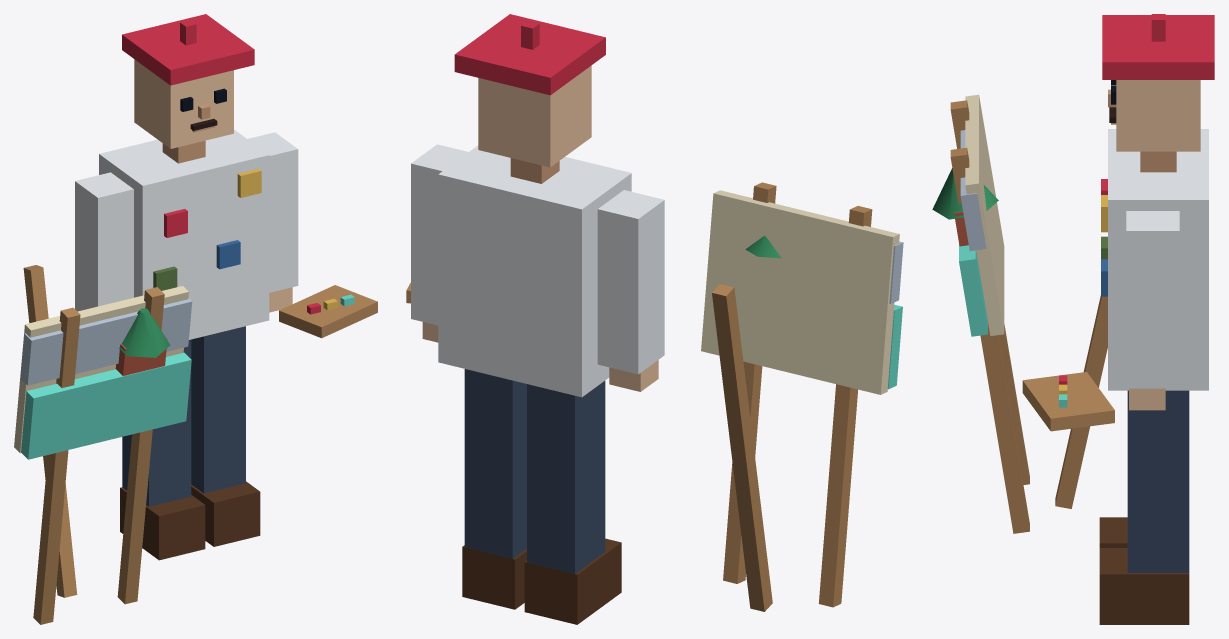
File: npc_painter.glb
3 views of the same model, side by side, from view 1: azimuth 30°, elevation 25°; view 2: azimuth 150°, elevation 25°; view 3: azimuth 270°, elevation 25° (orthographic). The views are drawn at different scales.
Parts seen in each view (by area): view 1: npc_painter; view 2: npc_painter; view 3: npc_painter.
Part boxes in pixels (x1=…): npc_painter: x1=14, y1=14, x2=377, y2=624; npc_painter: x1=406, y1=14, x2=903, y2=624; npc_painter: x1=932, y1=14, x2=1214, y2=624.
Bounding box in the file's own units: 1.83 × 2.29 × 1.01.
1 material, 1 textured.
